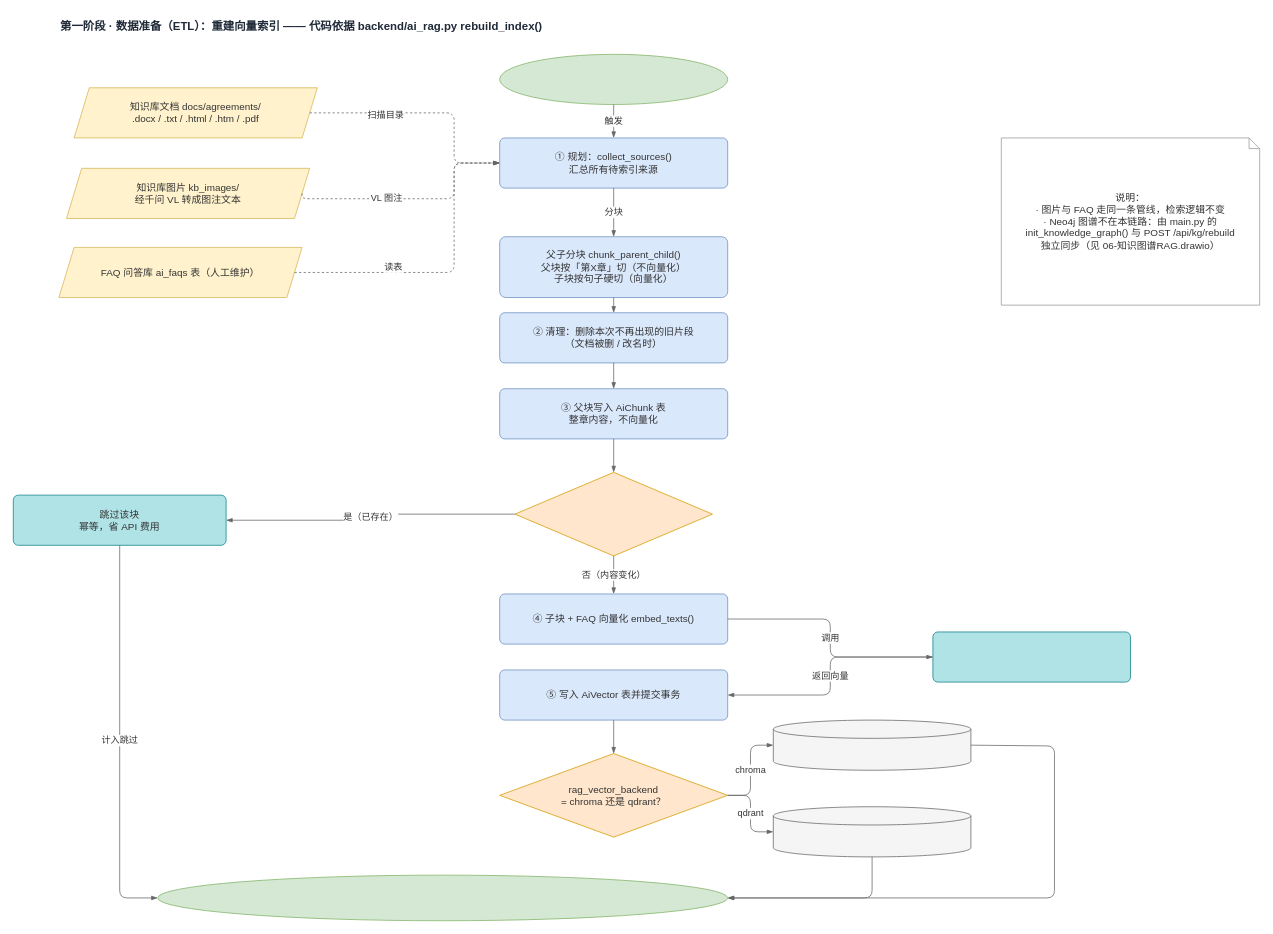
This 1273x934 diagram has some shape labels left out. The shapes that lost their labels are listed below. From the top down, each one's centre as x and y in pixels, then its label:
(x=613, y=79): 管理员点「重建索引」 POST /api/ai/kb/rebuild
(x=613, y=514): 子块内容 MD5 未变化？ content_hash 命中
(x=1031, y=656): 千问 Embedding API text-embedding-v3 · 1024 维
(x=872, y=744): sync_chroma() → Chroma 集合
(x=872, y=831): sync_qdrant() → Qdrant 集合
(x=442, y=897): 返回统计：新增 / 更新 / 跳过 / 失败
